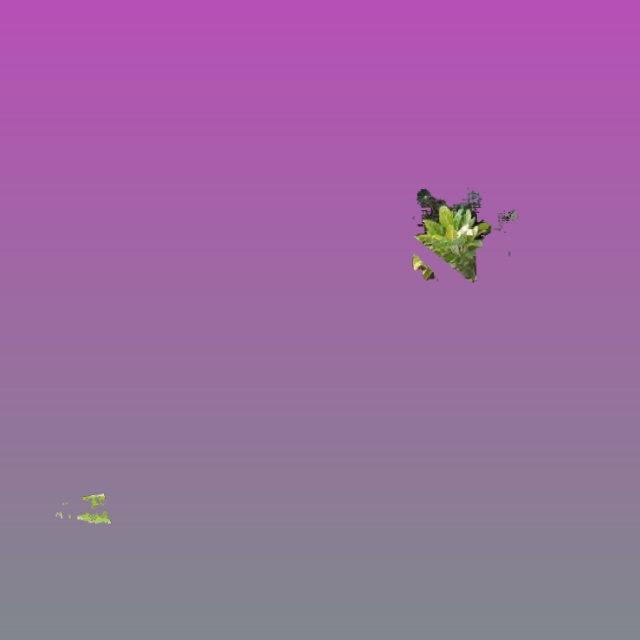ylang-ylang: (413, 188, 517, 281), (56, 494, 110, 522)
